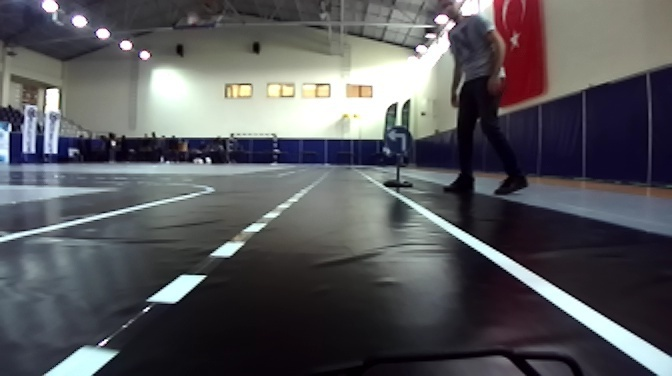sola_donus: (383, 124, 414, 151)
